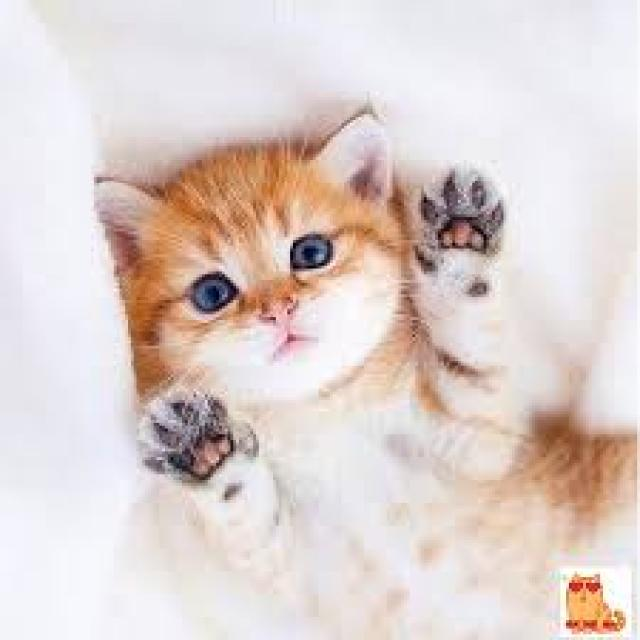cat: (100, 111, 631, 631)
